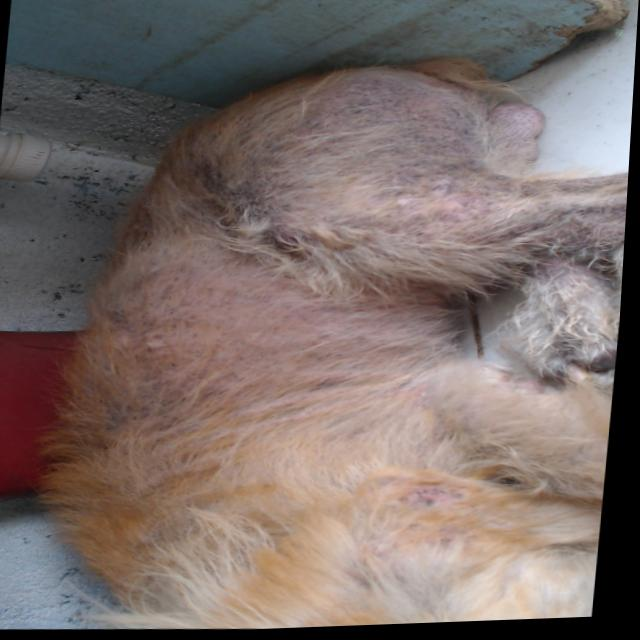demodicosis: (314, 94, 475, 222), (94, 287, 281, 397), (517, 194, 630, 252)
